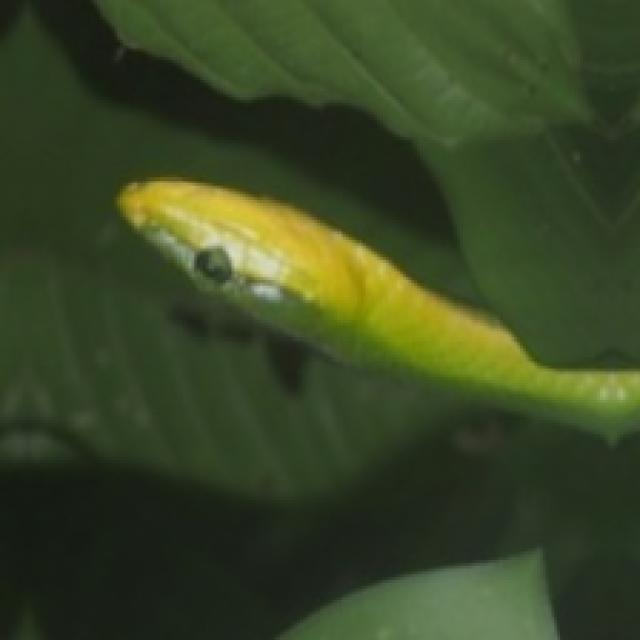red-tailed green ratsnake: (117, 177, 637, 437)
